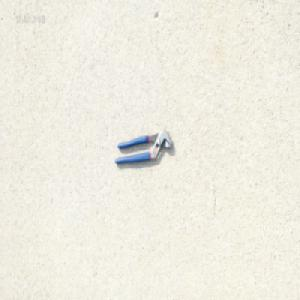Pliers: (115, 128, 174, 166)
